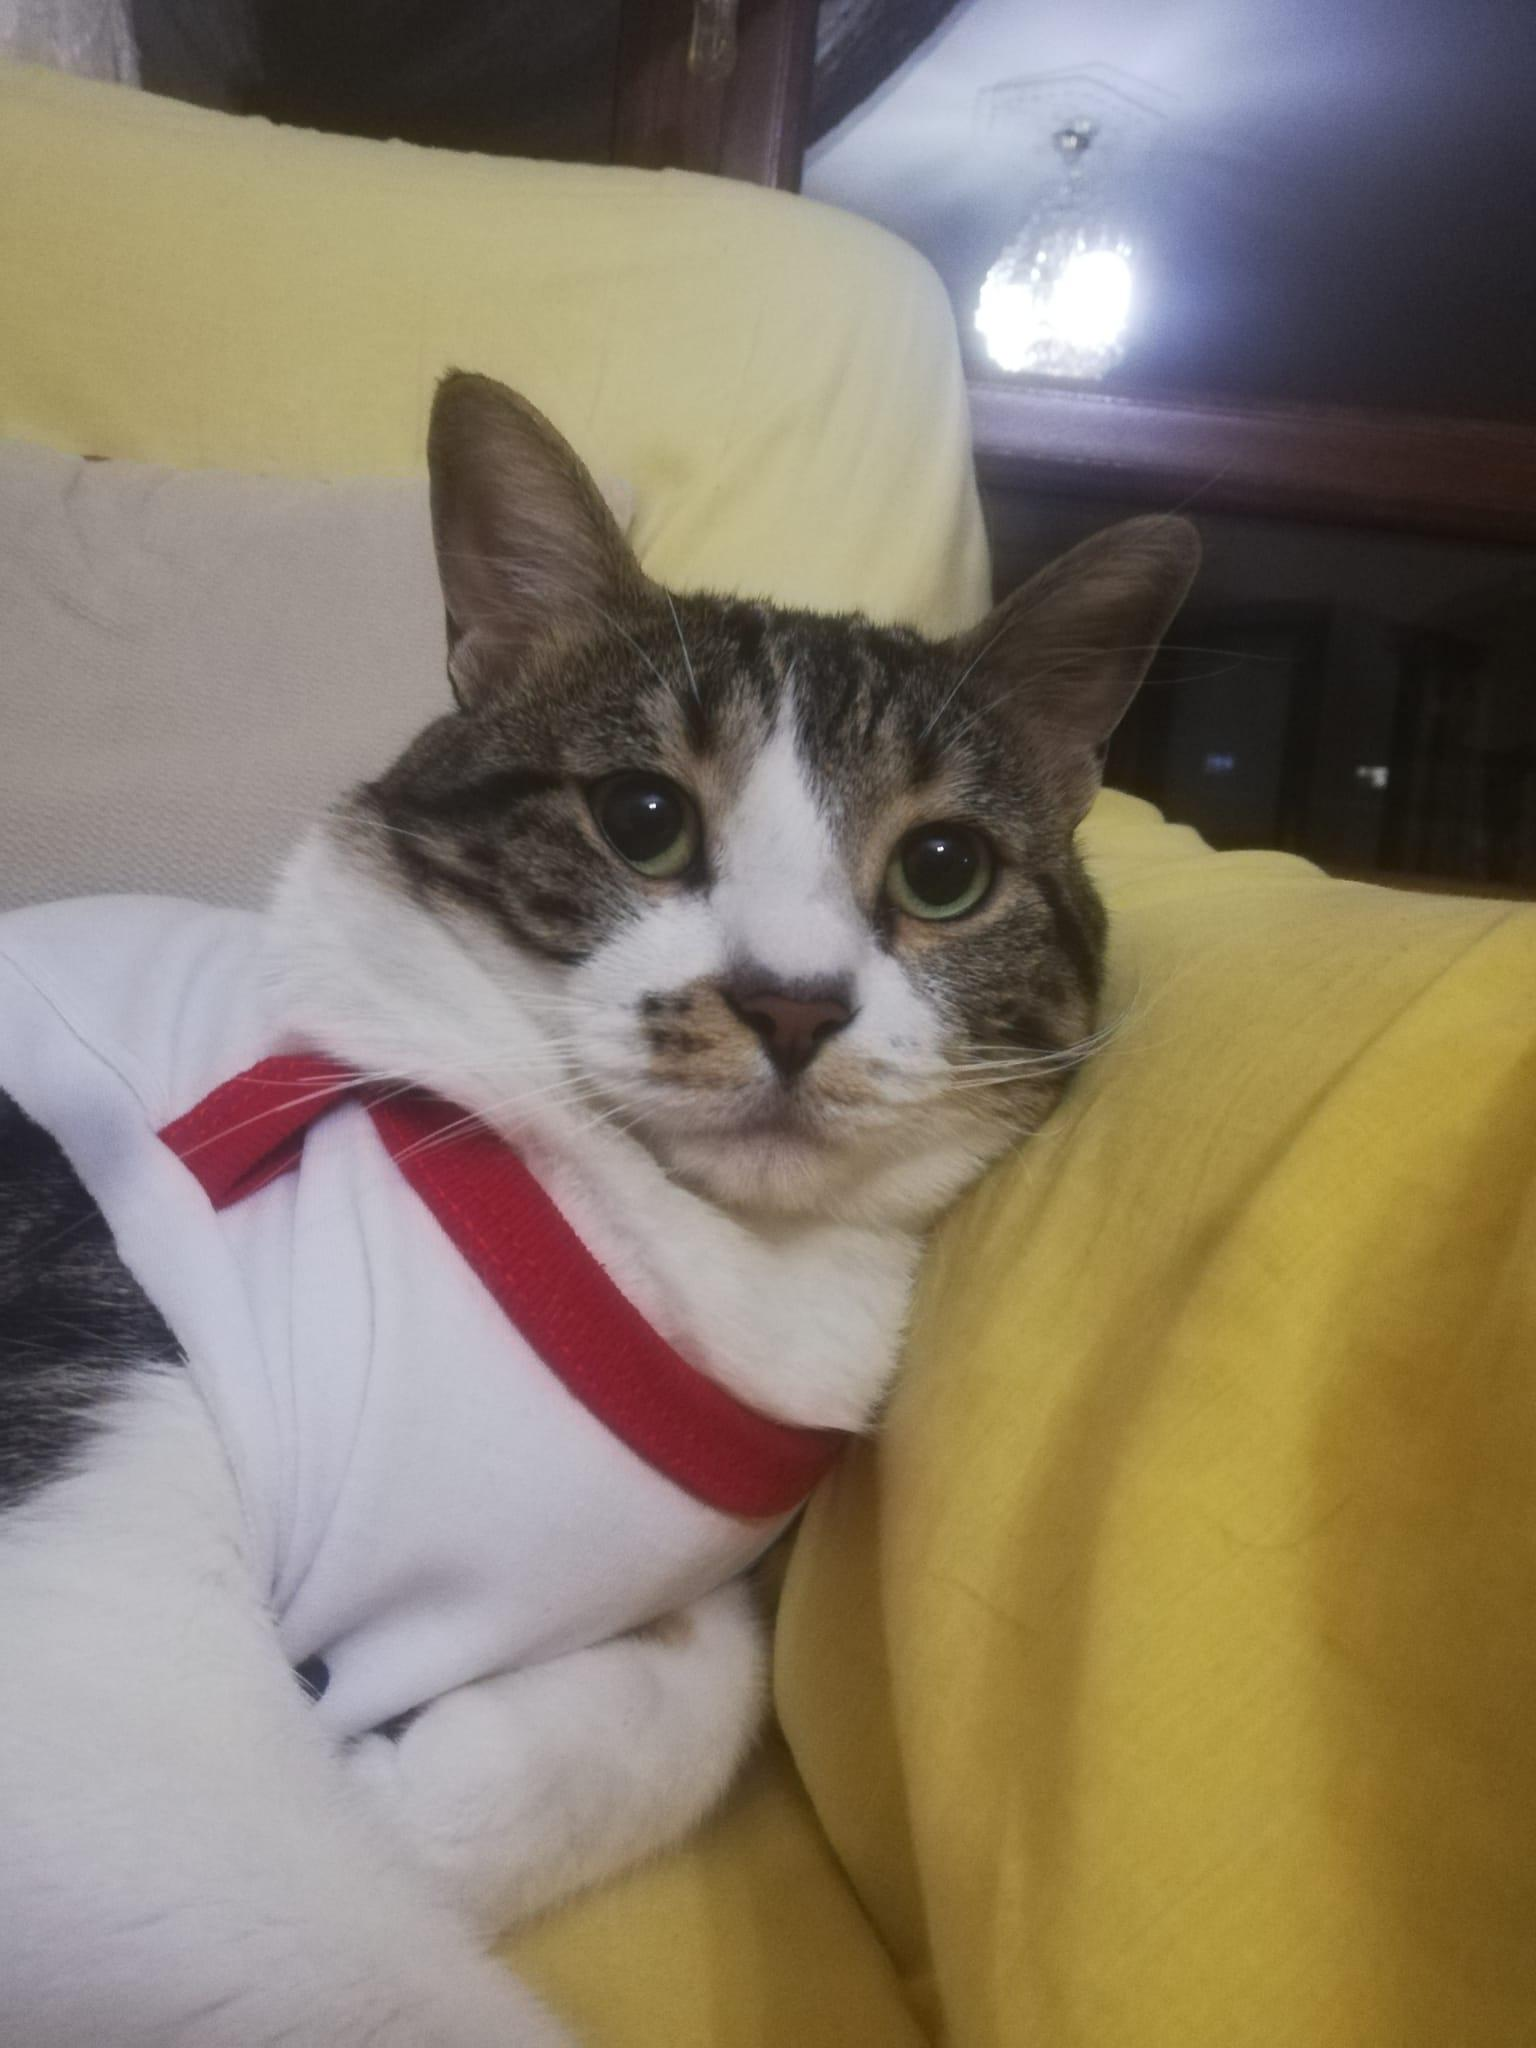kedo: (0, 368, 1191, 2038)
